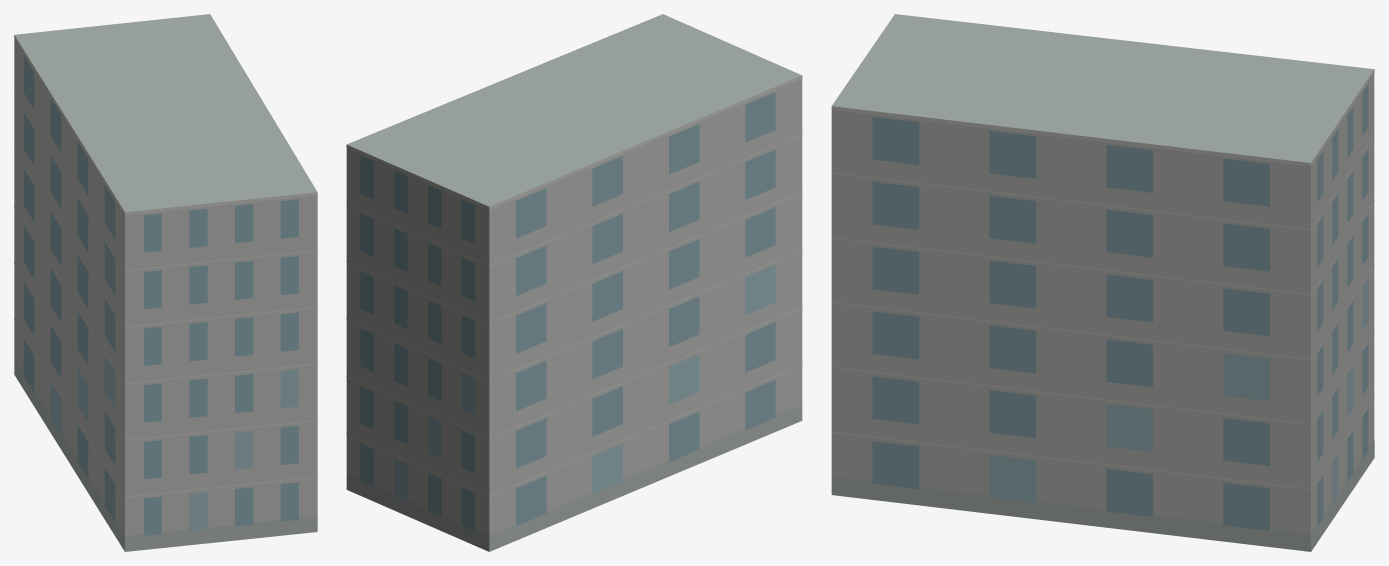
The model's file is survey-upis-32887197.glb.
3 renders of one model, left to right at view 1: azimuth 30°, elevation 25°; view 2: azimuth 150°, elevation 25°; view 3: azimuth 270°, elevation 25°, orthographic. The views are drawn at different scales.
Parts seen in each view (by area): view 1: survey-upis-32887197.tmp; view 2: survey-upis-32887197.tmp; view 3: survey-upis-32887197.tmp.
Part boxes in pixels (x1,y1,x2,y2): survey-upis-32887197.tmp: (14, 14, 317, 551); survey-upis-32887197.tmp: (346, 14, 802, 551); survey-upis-32887197.tmp: (831, 14, 1374, 551).
Bounding box in the file's own units: 20.38 × 24.75 × 31.34.
